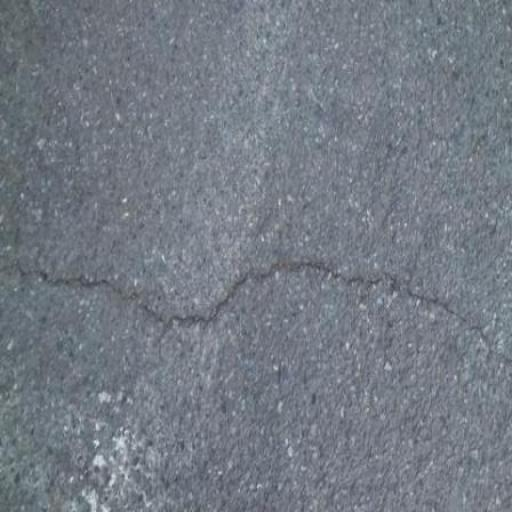spalling: (7, 244, 502, 371)
